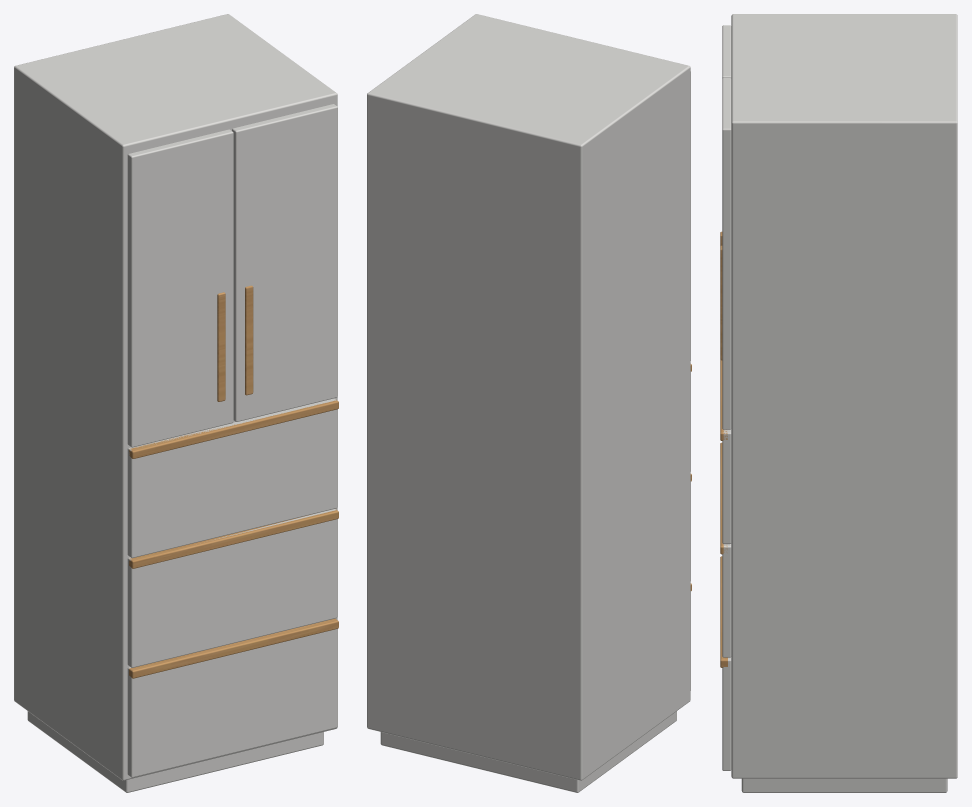
File: cabinet.glb
3 renders of one model, left to right at view 1: azimuth 30°, elevation 25°; view 2: azimuth 150°, elevation 25°; view 3: azimuth 270°, elevation 25°, orthographic. The views are drawn at different scales.
Parts seen in each view (by area): view 1: cabinet_fronts, cabinet_body, cabinet_handles; view 2: cabinet_body, cabinet_fronts; view 3: cabinet_body, cabinet_fronts, cabinet_handles.
Part boxes in pixels (left/top/right/bottom): cabinet_fronts: left=127, top=104, right=337, bottom=777; cabinet_body: left=14, top=14, right=337, bottom=792; cabinet_handles: left=129, top=285, right=338, bottom=678; cabinet_body: left=367, top=14, right=690, bottom=792; cabinet_fronts: left=690, top=71, right=690, bottom=690; cabinet_body: left=731, top=14, right=957, bottom=792; cabinet_fronts: left=722, top=25, right=731, bottom=770; cabinet_handles: left=720, top=231, right=727, bottom=667.
Size of the model in its own units: 0.5 by 1.45 by 0.462.
2 materials, 1 textured.
